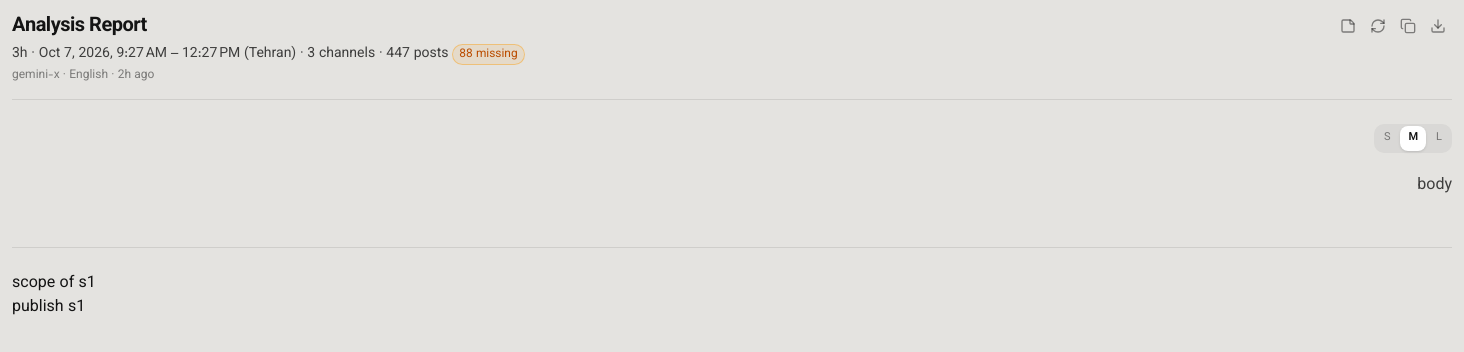
the Summary header › Missing Posts are a chip after the Post count, explained on tap
This screenshot has width=1464, height=352.
Click the button with test id "missing-posts-chip" at [488, 54], box [452,44,525,65]
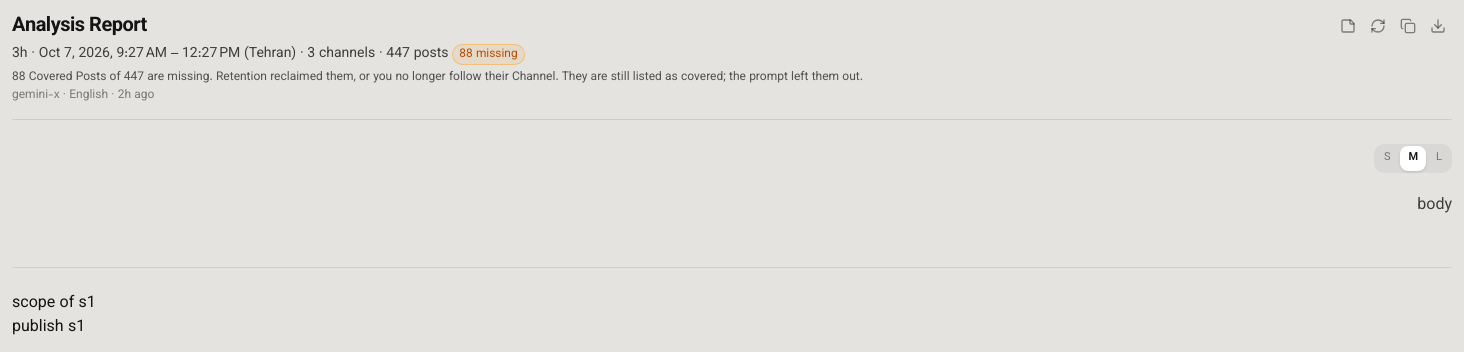
Result: the text with test id "missing-posts-explanation" shows "88 Covered Posts of 447 are missing. Retention reclaimed them, or you no longer follow their Channel. They are still listed as covered; the prompt left them out" at [12,68,863,86]
